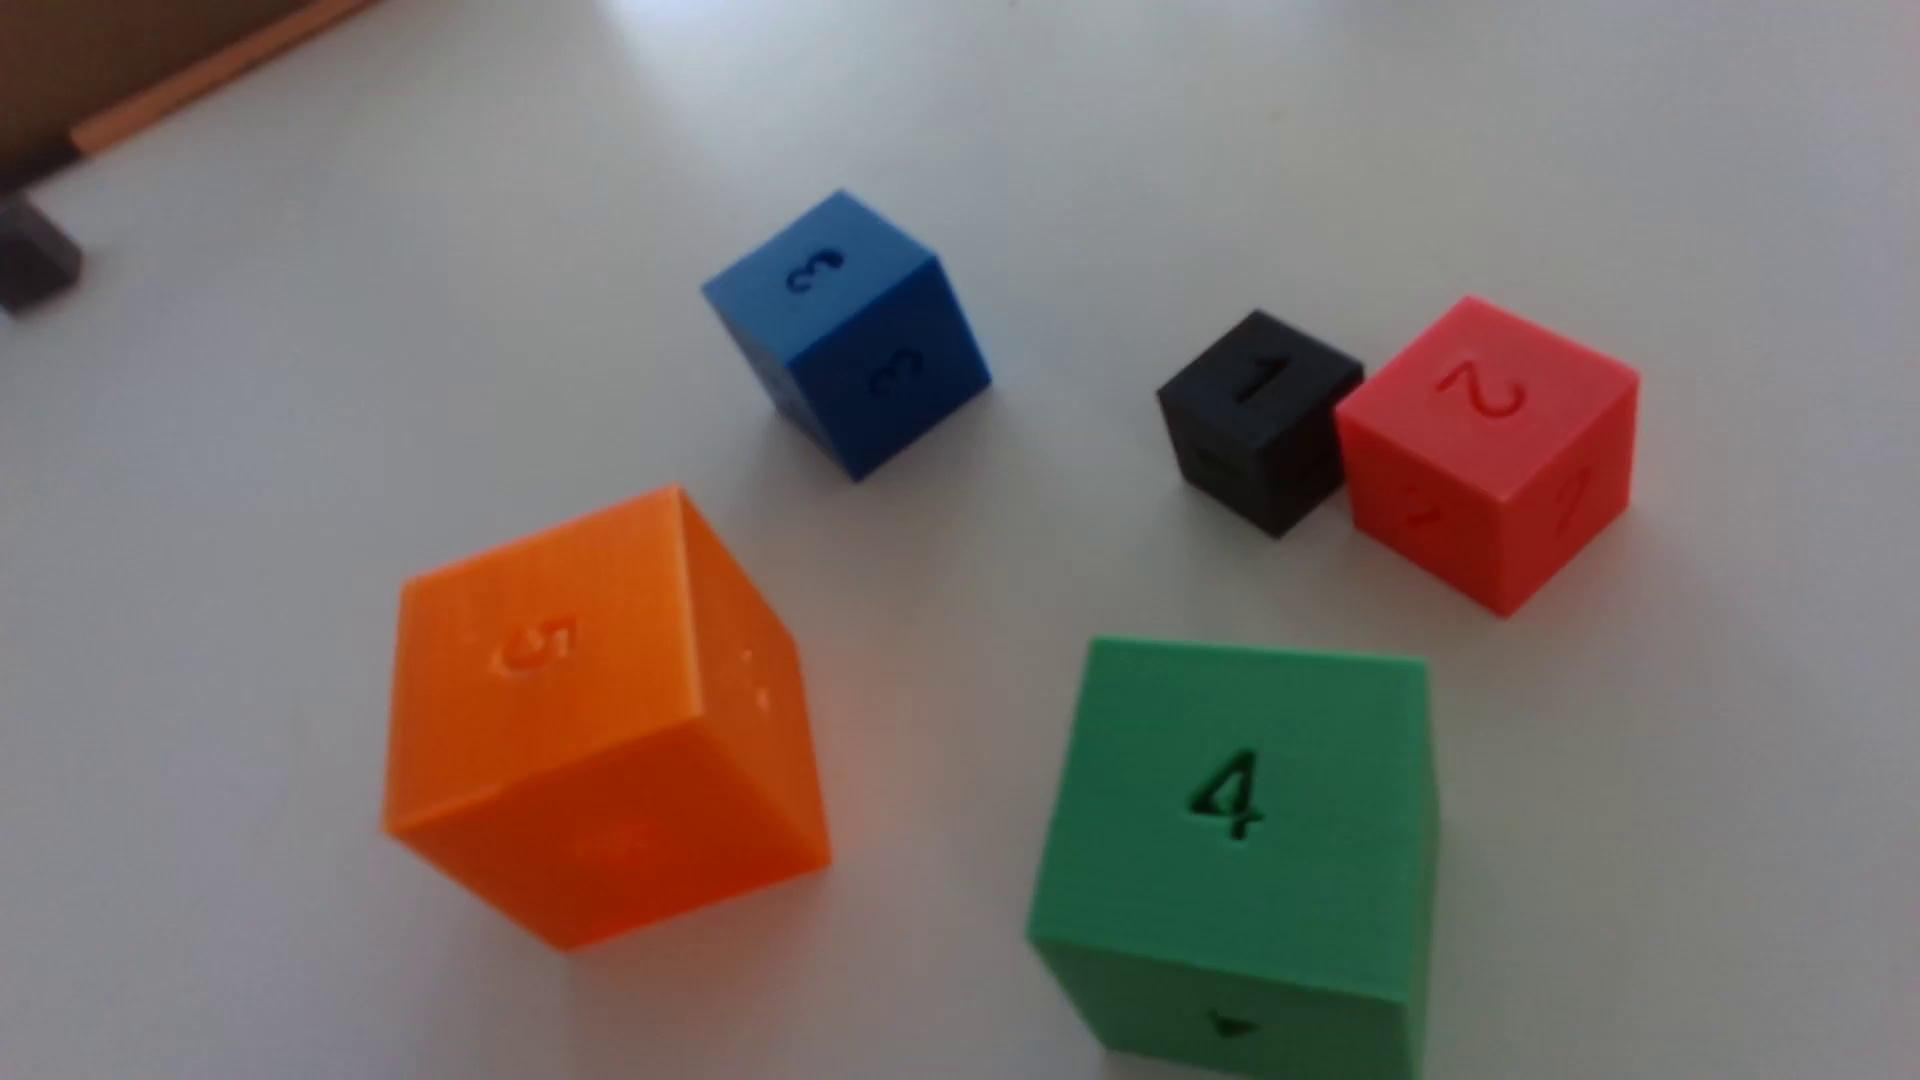black: (1156, 311, 1364, 539)
blue: (703, 193, 990, 481)
green: (1027, 640, 1439, 1080)
orange: (382, 488, 831, 951)
red: (1336, 299, 1639, 618)
